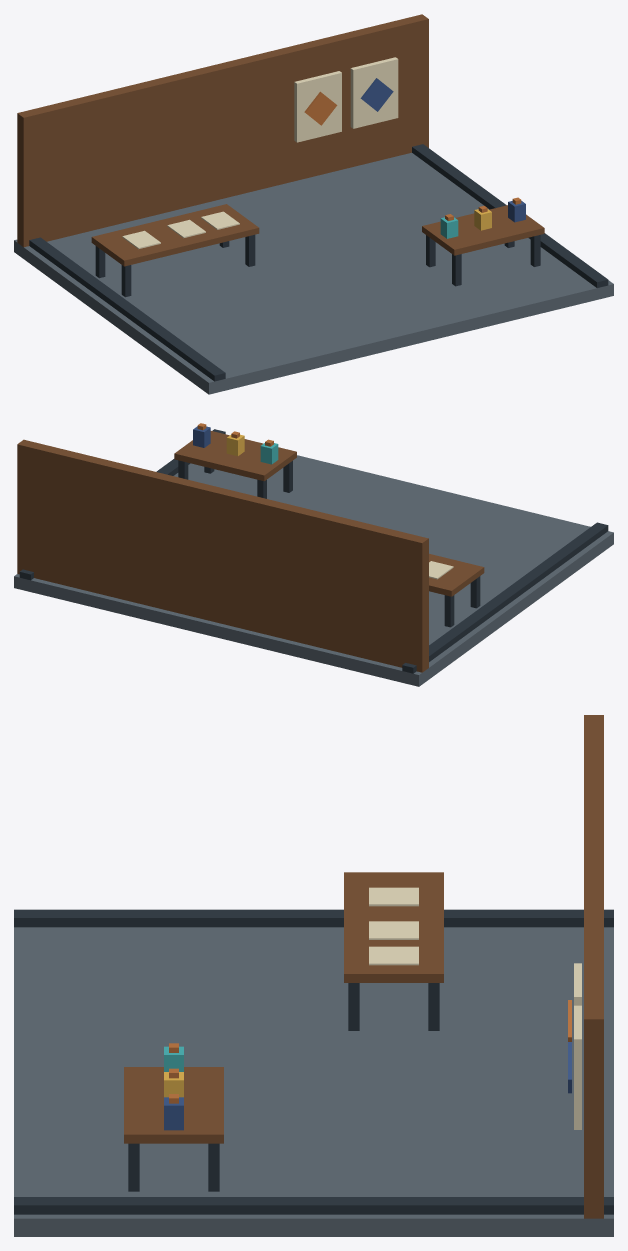
Rendered from ink_office.glb.
The picture shows the model from 3 angles, top to bottom: view 1: azimuth 30°, elevation 25°; view 2: azimuth 150°, elevation 25°; view 3: azimuth 270°, elevation 25°; orthographic projection. The views are drawn at different scales.
Parts seen in each view (by area): view 1: ink_office; view 2: ink_office; view 3: ink_office.
Boxes of the visible parts, x1,y1,x2,y2 form: ink_office: (14, 14, 613, 394); ink_office: (14, 423, 613, 686); ink_office: (14, 715, 613, 1236).
Bounding box in the file's own units: 36 × 12 × 30.
